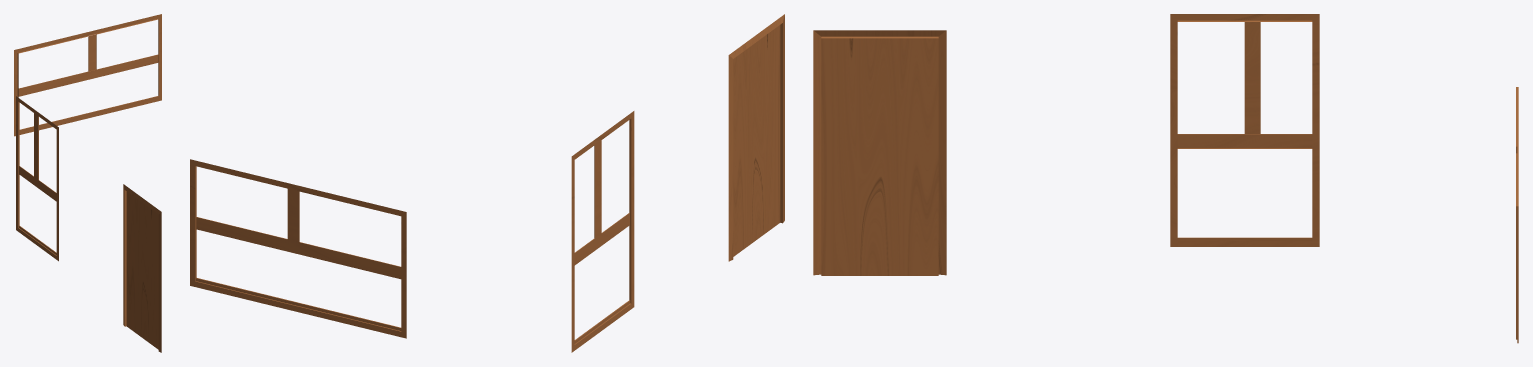
File: buildig.003_wood_(shine)_0_lev3.glb
The picture shows the model from 3 angles, left to right: view 1: azimuth 30°, elevation 25°; view 2: azimuth 150°, elevation 25°; view 3: azimuth 270°, elevation 25°; orthographic projection. The views are drawn at different scales.
Visible parts, largest first — view 1: buildig.003_wood_(shine)_0_lev3; view 2: buildig.003_wood_(shine)_0_lev3; view 3: buildig.003_wood_(shine)_0_lev3.
Boxes of the visible parts, x1,y1,x2,y2 form: buildig.003_wood_(shine)_0_lev3: (14,14,161,352); buildig.003_wood_(shine)_0_lev3: (190,14,784,352); buildig.003_wood_(shine)_0_lev3: (813,14,1518,343).
Size of the model in its own units: 0.9775 by 0.6884 by 1.68.
1 material, 1 textured.
